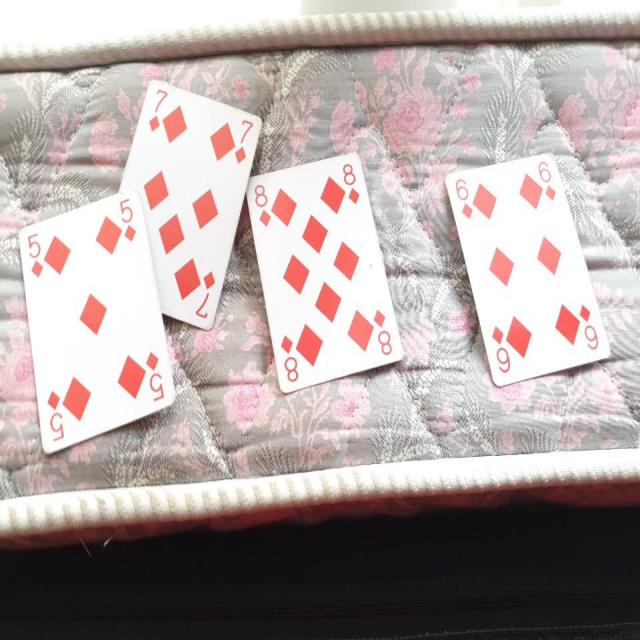5 Diamonds: (17, 189, 174, 455)
6 Diamonds: (444, 153, 609, 387)
7 Diamonds: (116, 79, 261, 332)
8 Diamonds: (246, 150, 404, 398)
